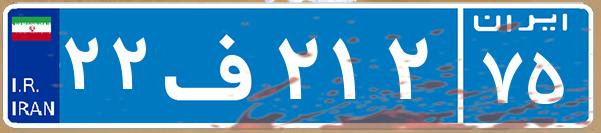1: (330, 28, 385, 110)
2: (385, 28, 445, 110), (273, 28, 330, 110), (57, 26, 110, 107), (110, 28, 158, 105)
5: (525, 38, 570, 115)
7: (475, 38, 525, 113)
ف: (158, 15, 273, 115)
